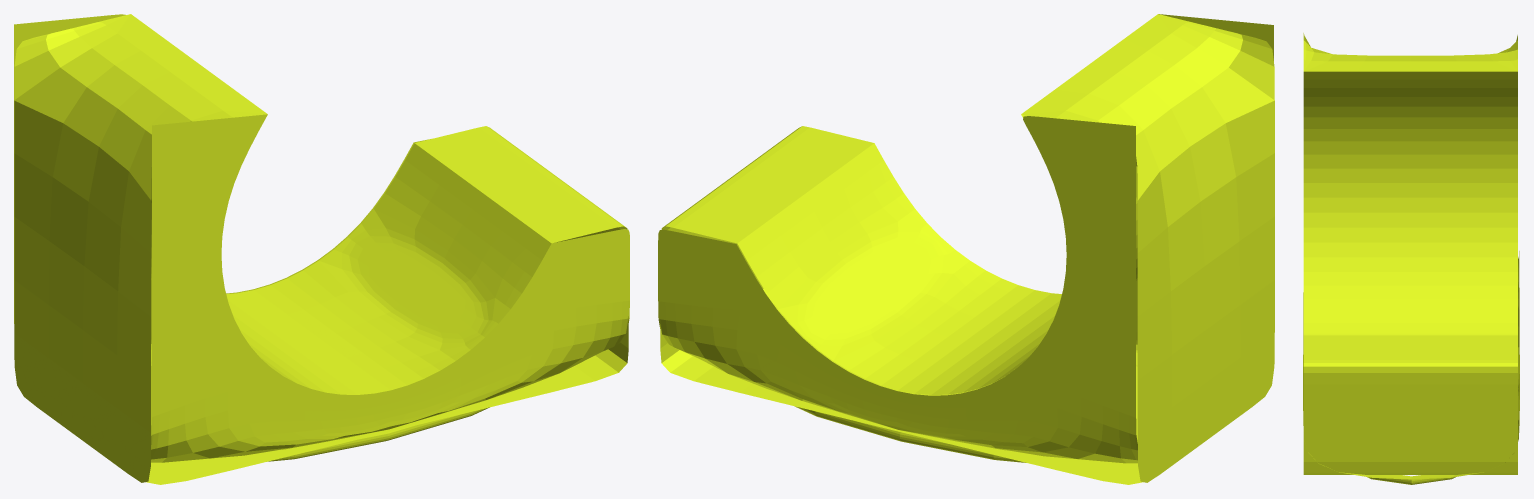
Rendered from Drifter loop 2.fbx.
3 renders of one model, left to right at view 1: azimuth 30°, elevation 25°; view 2: azimuth 150°, elevation 25°; view 3: azimuth 270°, elevation 25°, orthographic. The views are drawn at different scales.
Parts seen in each view (by area): view 1: building_001; view 2: building_001; view 3: building_001.
Boxes of the visible parts, box(x1,y1,x2,y2) form: building_001: box(14, 14, 629, 484); building_001: box(658, 14, 1274, 484); building_001: box(1303, 33, 1519, 484).
Size of the model in its own units: 801 by 603 by 402.
